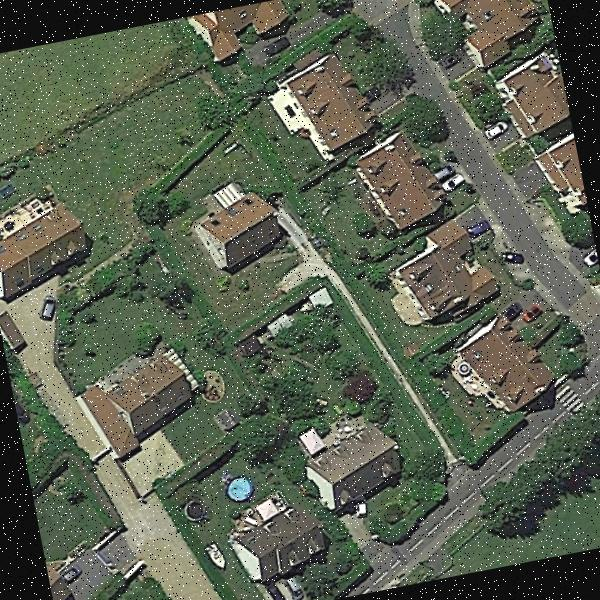Buildings: (302, 414, 410, 516), (453, 314, 555, 413), (262, 62, 366, 158), (82, 365, 192, 443), (392, 226, 486, 312), (232, 497, 323, 580), (0, 201, 84, 288), (445, 0, 540, 72), (366, 141, 439, 232), (198, 197, 283, 275), (192, 0, 289, 67), (493, 63, 572, 139), (538, 131, 588, 214), (47, 572, 67, 600)
